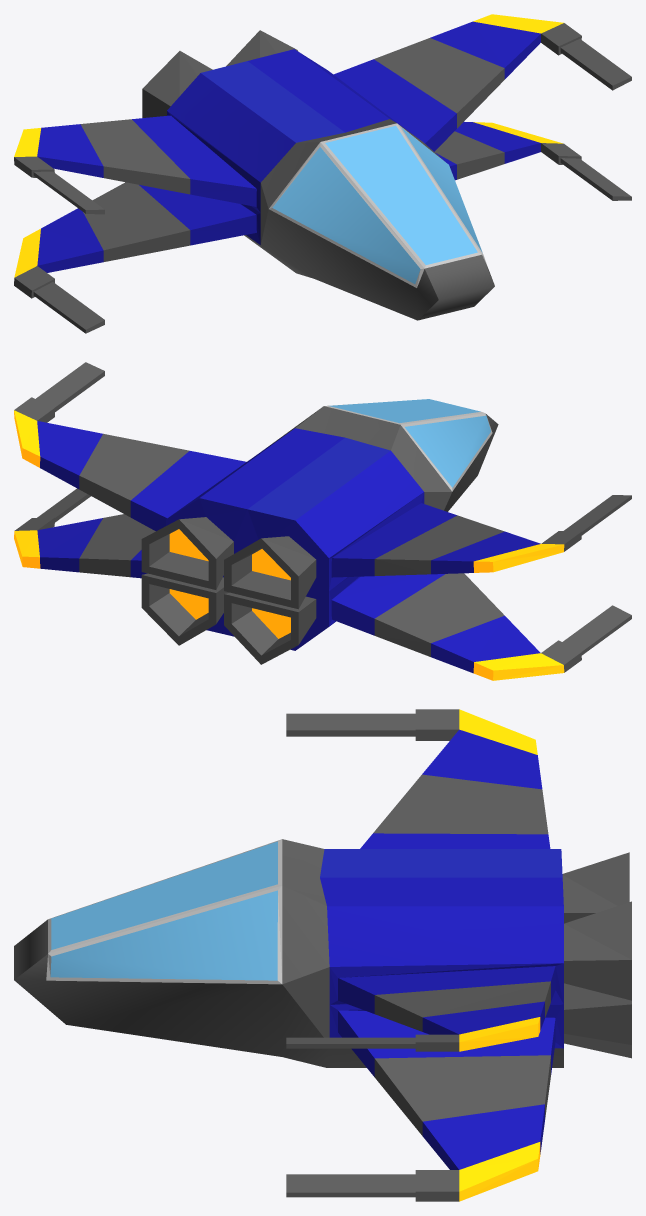
The model's file is stars.glb.
The picture shows the model from 3 angles, top to bottom: view 1: azimuth 30°, elevation 25°; view 2: azimuth 150°, elevation 25°; view 3: azimuth 270°, elevation 25°; orthographic projection. The views are drawn at different scales.
Parts seen in each view (by area): view 1: Box003_03 - Default_0, Box003_Material #25_0, Box003_01 - Default_0, Box003_Material #26_0, Box003_08 - Default_0, Box003_02 - Default_0; view 2: Box003_03 - Default_0, Box003_Material #25_0, Box003_02 - Default_0, Box003_01 - Default_0, Box003_Material #26_0, Box003_08 - Default_0; view 3: Box003_03 - Default_0, Box003_Material #25_0, Box003_01 - Default_0, Box003_Material #26_0, Box003_02 - Default_0, Box003_08 - Default_0.
Part boxes in pixels (x1=…): Box003_03 - Default_0: x1=14, y1=23, x2=631, y2=333; Box003_Material #25_0: x1=37, y1=21, x2=540, y2=272; Box003_01 - Default_0: x1=272, y1=126, x2=482, y2=283; Box003_Material #26_0: x1=201, y1=61, x2=344, y2=142; Box003_08 - Default_0: x1=269, y1=123, x2=488, y2=287; Box003_02 - Default_0: x1=14, y1=14, x2=563, y2=277; Box003_03 - Default_0: x1=14, y1=362, x2=631, y2=672; Box003_Material #25_0: x1=37, y1=421, x2=540, y2=673; Box003_02 - Default_0: x1=14, y1=410, x2=564, y2=680; Box003_01 - Default_0: x1=329, y1=399, x2=490, y2=487; Box003_Material #26_0: x1=248, y1=437, x2=390, y2=520; Box003_08 - Default_0: x1=324, y1=403, x2=492, y2=491; Box003_03 - Default_0: x1=14, y1=709, x2=631, y2=1201; Box003_Material #25_0: x1=320, y1=729, x2=563, y2=1169; Box003_01 - Default_0: x1=50, y1=841, x2=277, y2=980; Box003_Material #26_0: x1=320, y1=849, x2=562, y2=877; Box003_02 - Default_0: x1=459, y1=709, x2=540, y2=1201; Box003_08 - Default_0: x1=46, y1=839, x2=282, y2=984.
Bounding box in the file's own units: 28.56 × 7.04 × 22.4.
